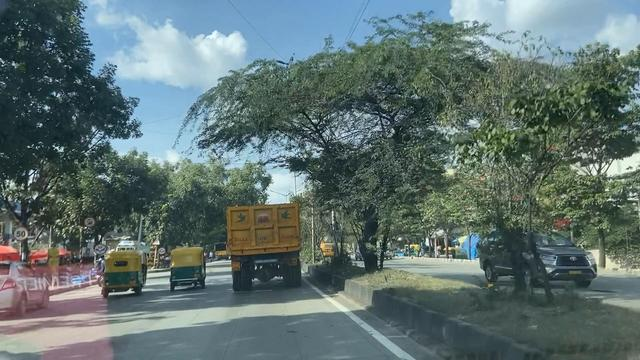HMV: (224, 200, 303, 287)
LMV: (0, 258, 54, 318), (93, 245, 146, 296), (169, 243, 204, 290)
